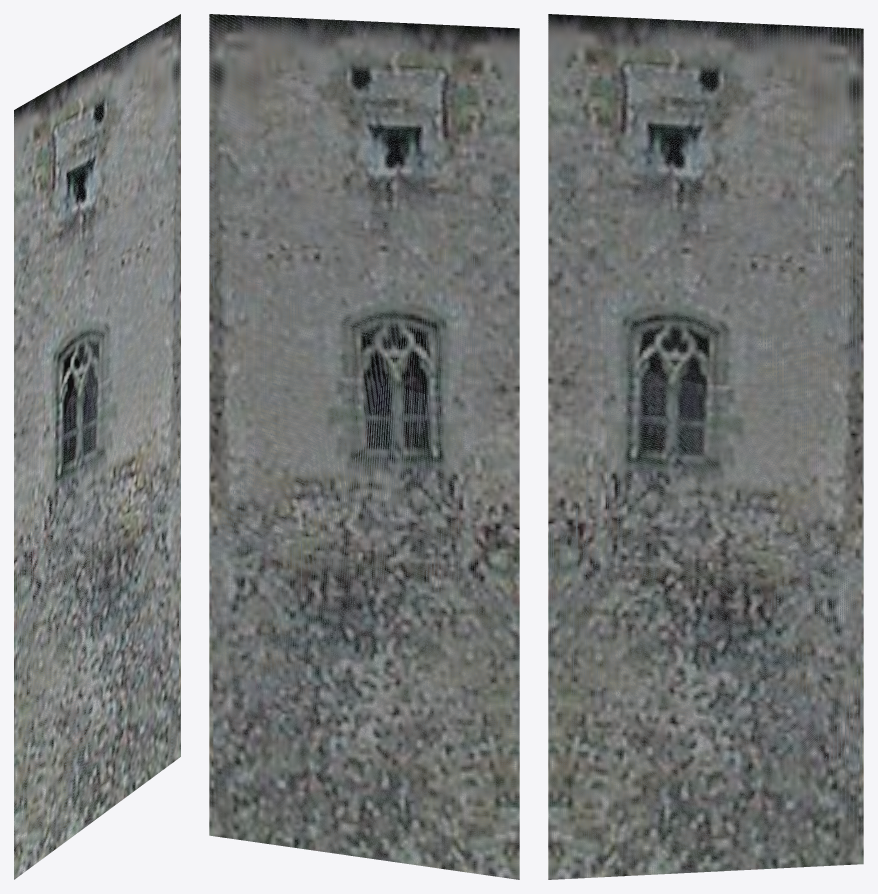
File: 西庸城堡278.dae
The picture shows the model from 3 angles, left to right: view 1: azimuth 30°, elevation 25°; view 2: azimuth 150°, elevation 25°; view 3: azimuth 330°, elevation 25°; orthographic projection. The views are drawn at different scales.
Visible parts, largest first — view 1: SketchUp; view 2: SketchUp; view 3: SketchUp.
Boxes of the visible parts, x1,y1,x2,y2 form: SketchUp: (14, 14, 180, 879); SketchUp: (209, 14, 519, 879); SketchUp: (548, 14, 863, 879).
Size of the model in its own units: 193 by 84.94 by 635.
